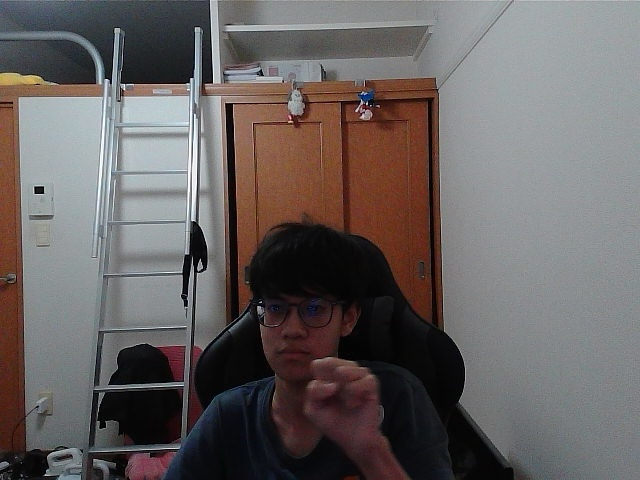closed_palm: (310, 366, 373, 432)
